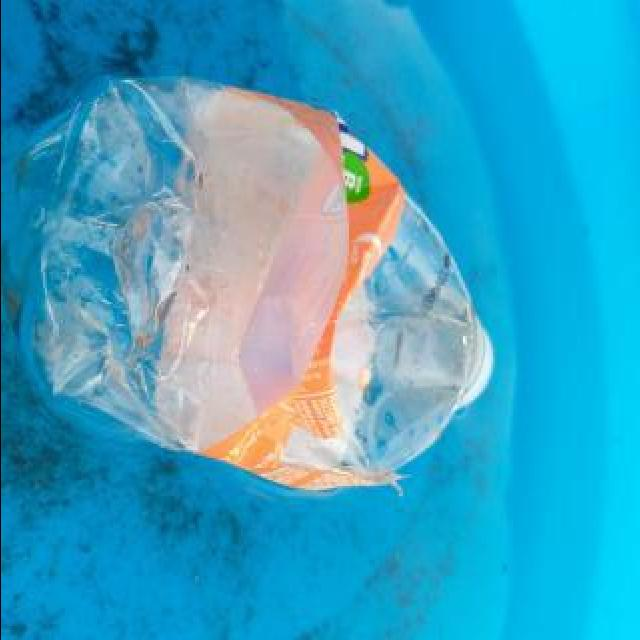Bottle: (28, 71, 501, 503)
